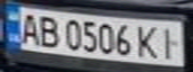0: (60, 17, 84, 52), (97, 20, 118, 55)
5: (78, 19, 100, 54)
6: (115, 21, 136, 57)
A: (15, 10, 42, 45)
B: (33, 14, 63, 48)
I: (154, 25, 184, 61)
K: (133, 22, 163, 60)
